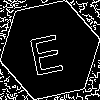E: (25, 25, 66, 76)
